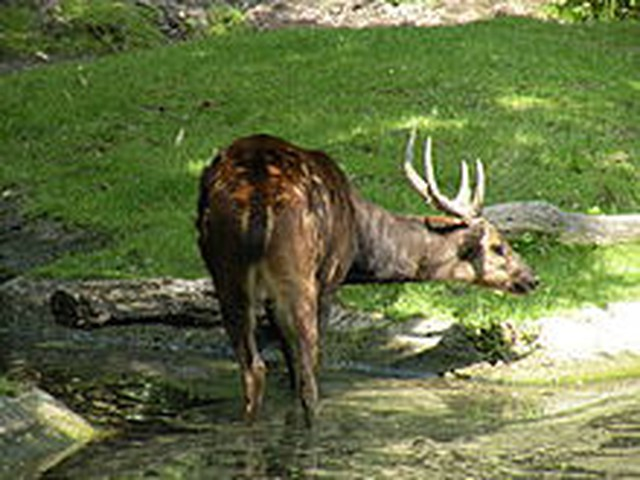deer: (186, 104, 546, 426)
